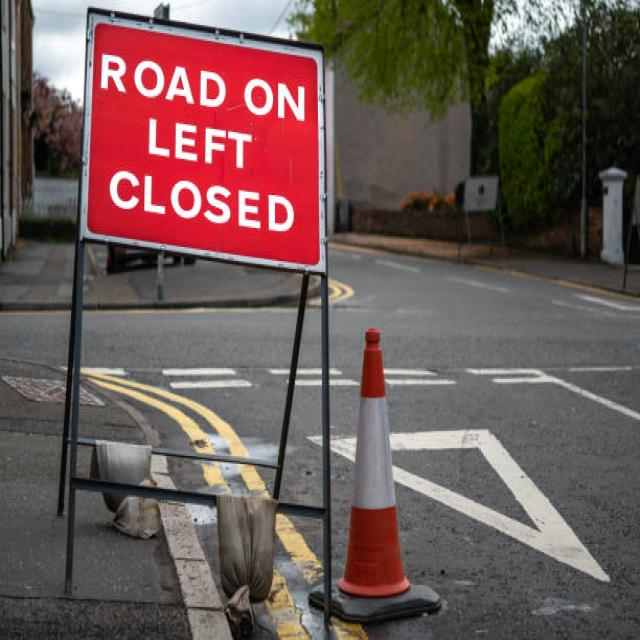Traffic Cone: (308, 306, 448, 627)
